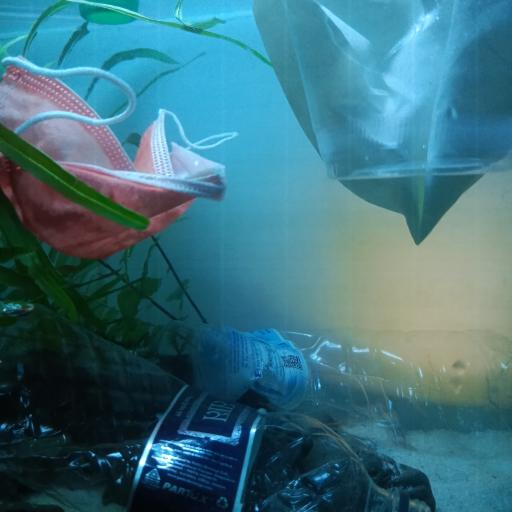glove: (252, 0, 512, 246)
mask: (0, 53, 237, 262)
plastic_bottle: (0, 297, 433, 512), (128, 317, 511, 457)
plastic_cup: (288, 0, 512, 181)
